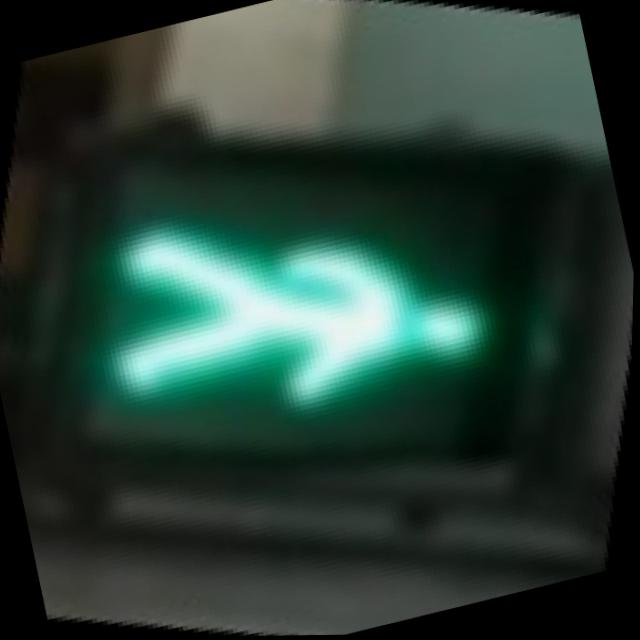green_light: (14, 65, 598, 582)
